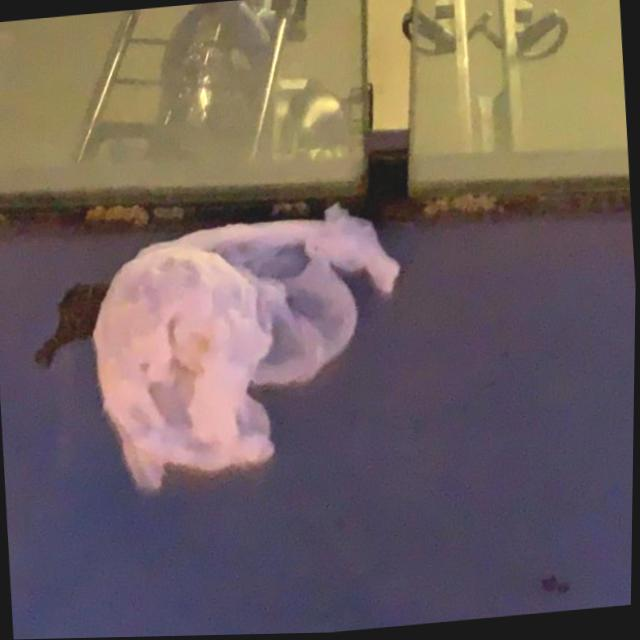Paper: (78, 207, 417, 501)
